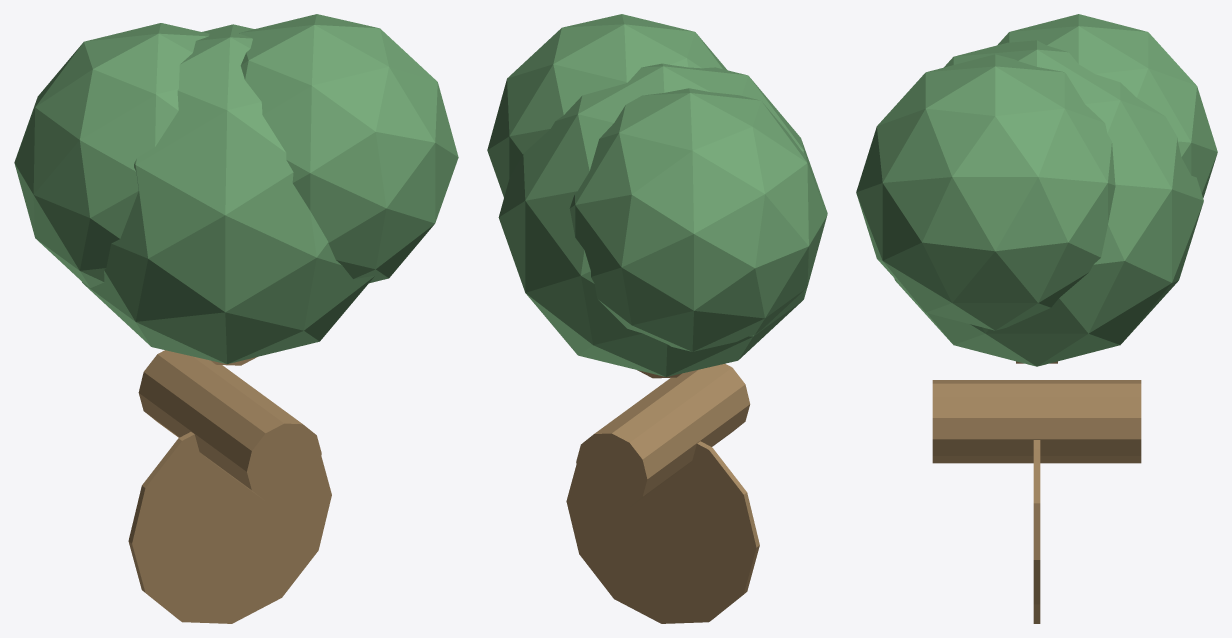
The model's file is env_tree_large.glb.
3 views of the same model, side by side, from view 1: azimuth 30°, elevation 25°; view 2: azimuth 150°, elevation 25°; view 3: azimuth 270°, elevation 25° (orthographic). The views are drawn at different scales.
Parts seen in each view (by area): view 1: world; view 2: world; view 3: world.
Part boxes in pixels (x1,y1,x2,y2): world: [14, 14, 458, 623]; world: [487, 14, 827, 623]; world: [856, 14, 1217, 623].
Size of the model in its own units: 2.9 by 4.57 by 2.6.
